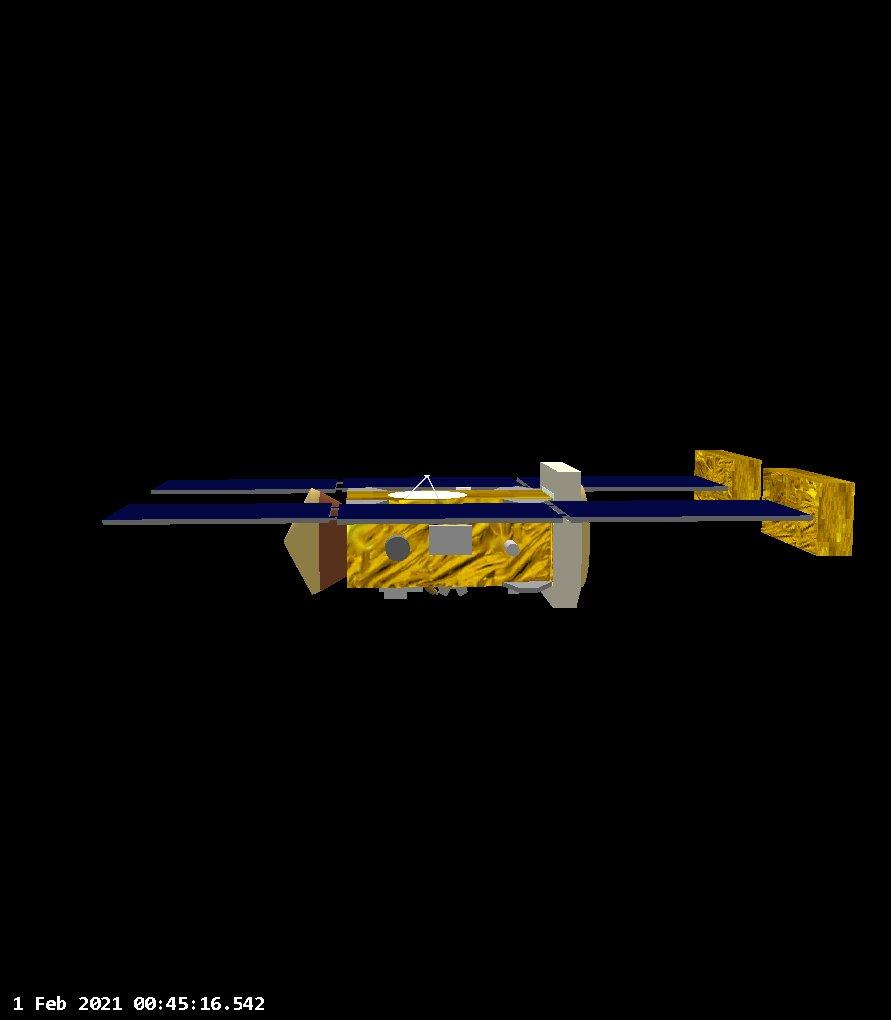antenna: (280, 484, 349, 599), (386, 471, 467, 503)
body: (345, 479, 608, 611)
solar: (92, 497, 814, 529), (144, 464, 737, 492)
